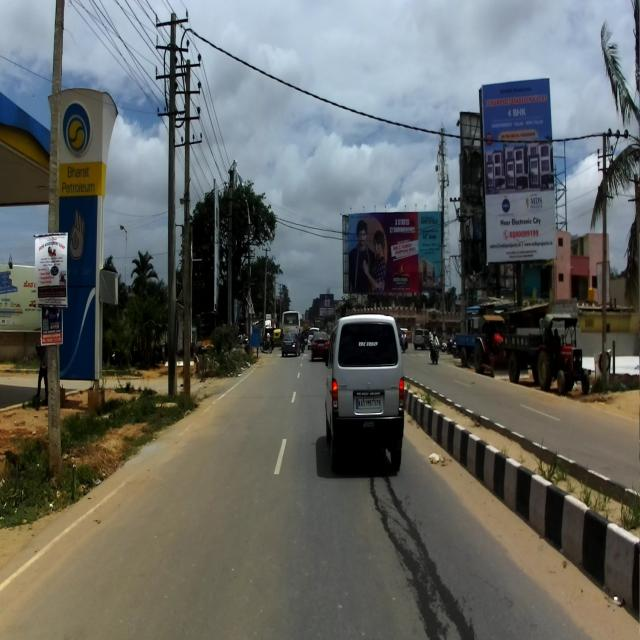Car_Maruti-Suzuki: (323, 312, 405, 472)
